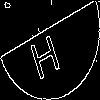H: (25, 25, 62, 81)
